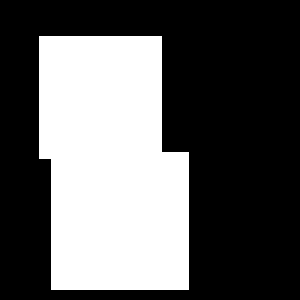circle: (51, 152, 189, 290), (39, 36, 162, 159)
